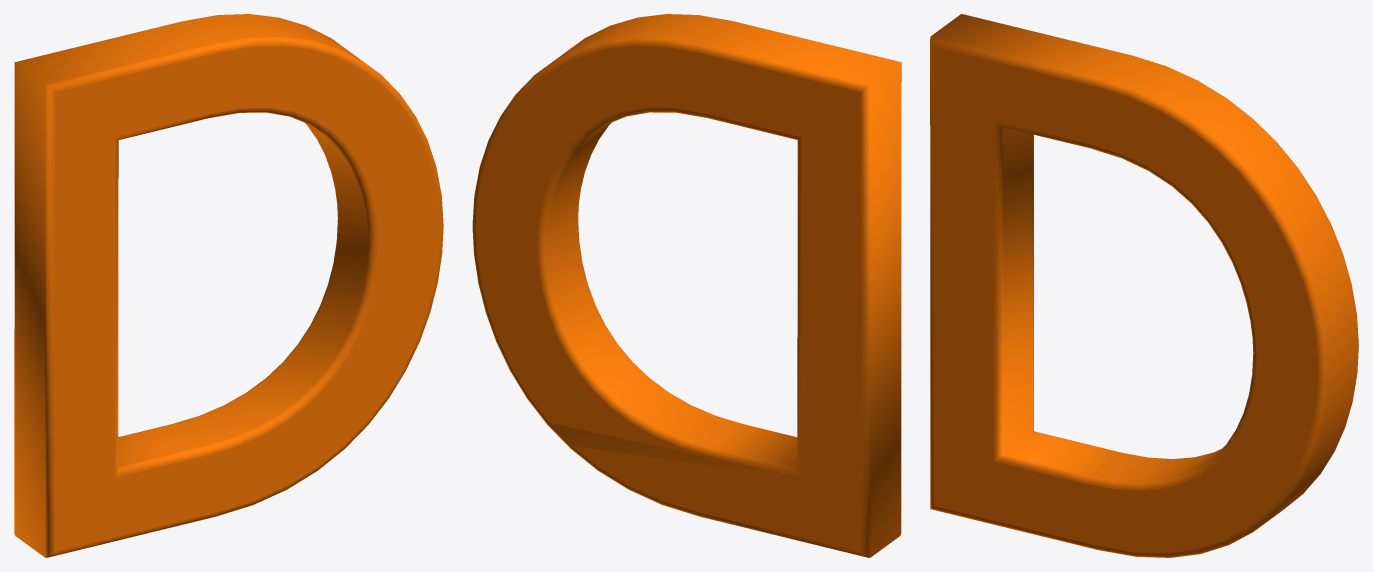
The picture shows the model from 3 angles, left to right: view 1: azimuth 30°, elevation 25°; view 2: azimuth 150°, elevation 25°; view 3: azimuth 330°, elevation 25°; orthographic projection.
Visible parts, largest first — view 1: DD; view 2: DD; view 3: DD.
Part boxes in pixels (x1=…): DD: x1=14, y1=14, x2=443, y2=557; DD: x1=472, y1=14, x2=901, y2=557; DD: x1=930, y1=14, x2=1358, y2=557.
Size of the model in its own units: 0.4396 by 0.5 by 0.0712.
